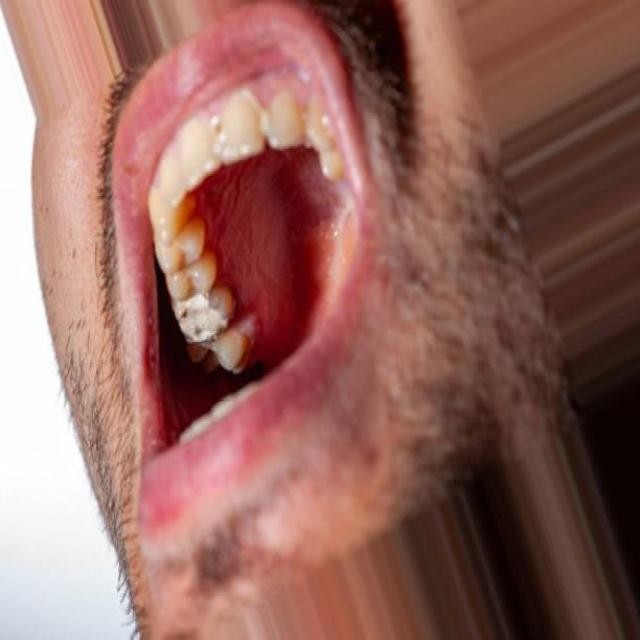caries: (176, 291, 233, 352)
